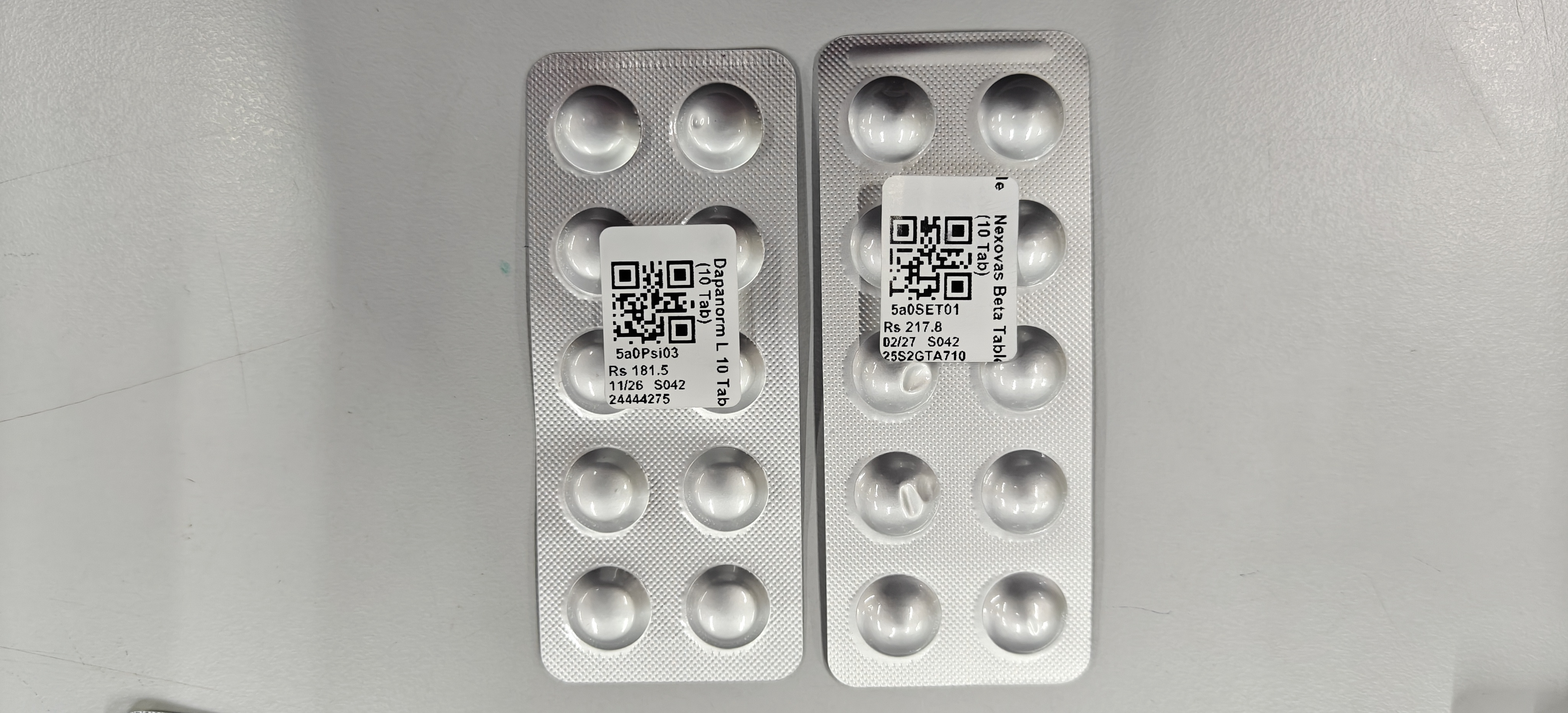qr_code: (887, 217, 972, 300), (611, 261, 695, 343)
